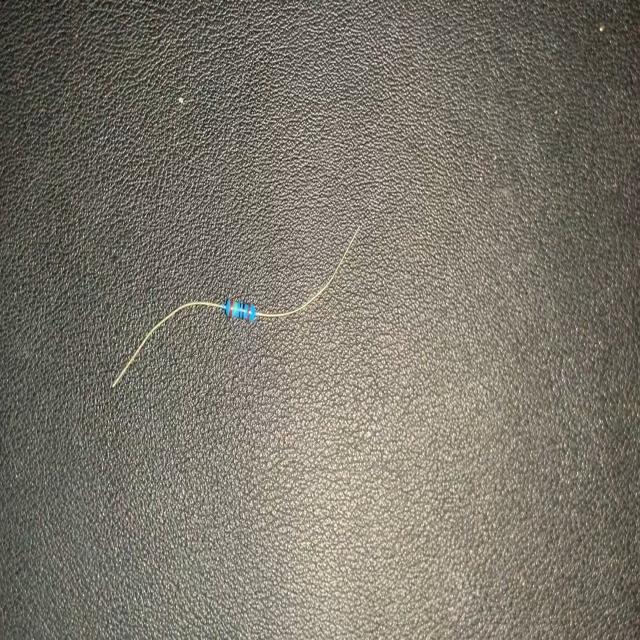resistor: (104, 212, 362, 398)
